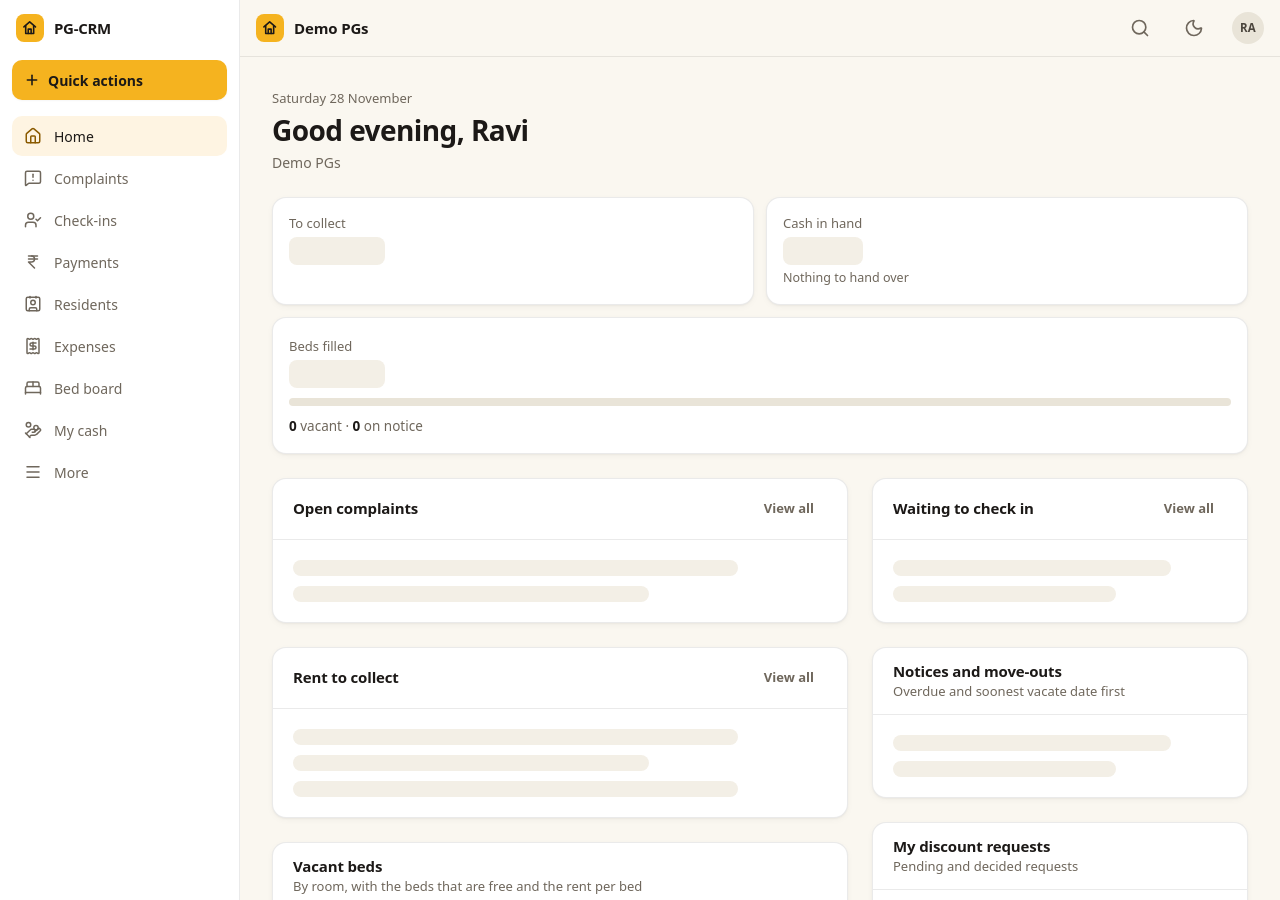
Test: Global search › finds residents by name or bed, rooms by number, and open complaints only
Click the button named "Search residents, rooms and complaints" at (1140, 28), box [1118,6,1162,50]
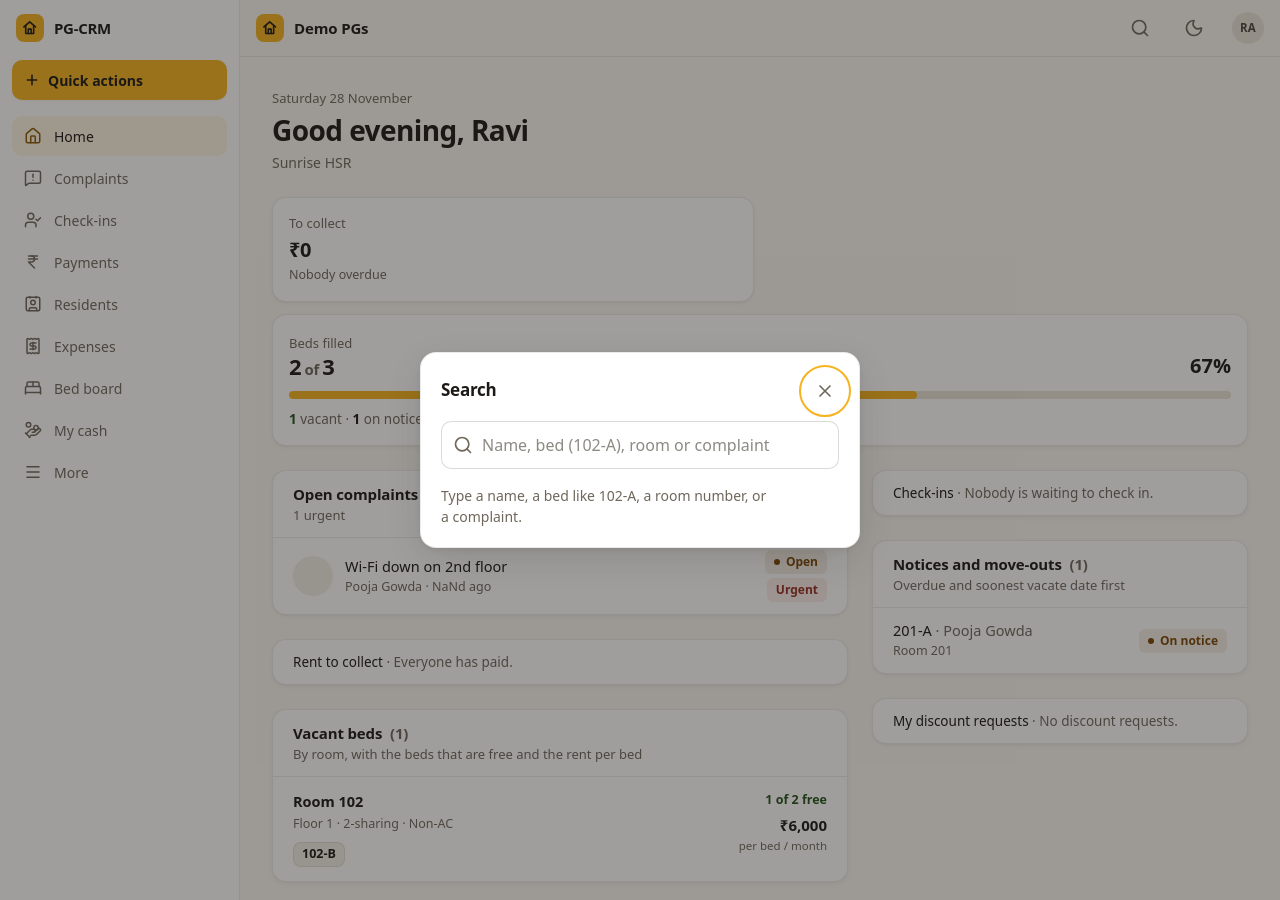
Type "102" into the search field named "Search residents, rooms and complaints" at (640, 445), box [441,421,839,469]
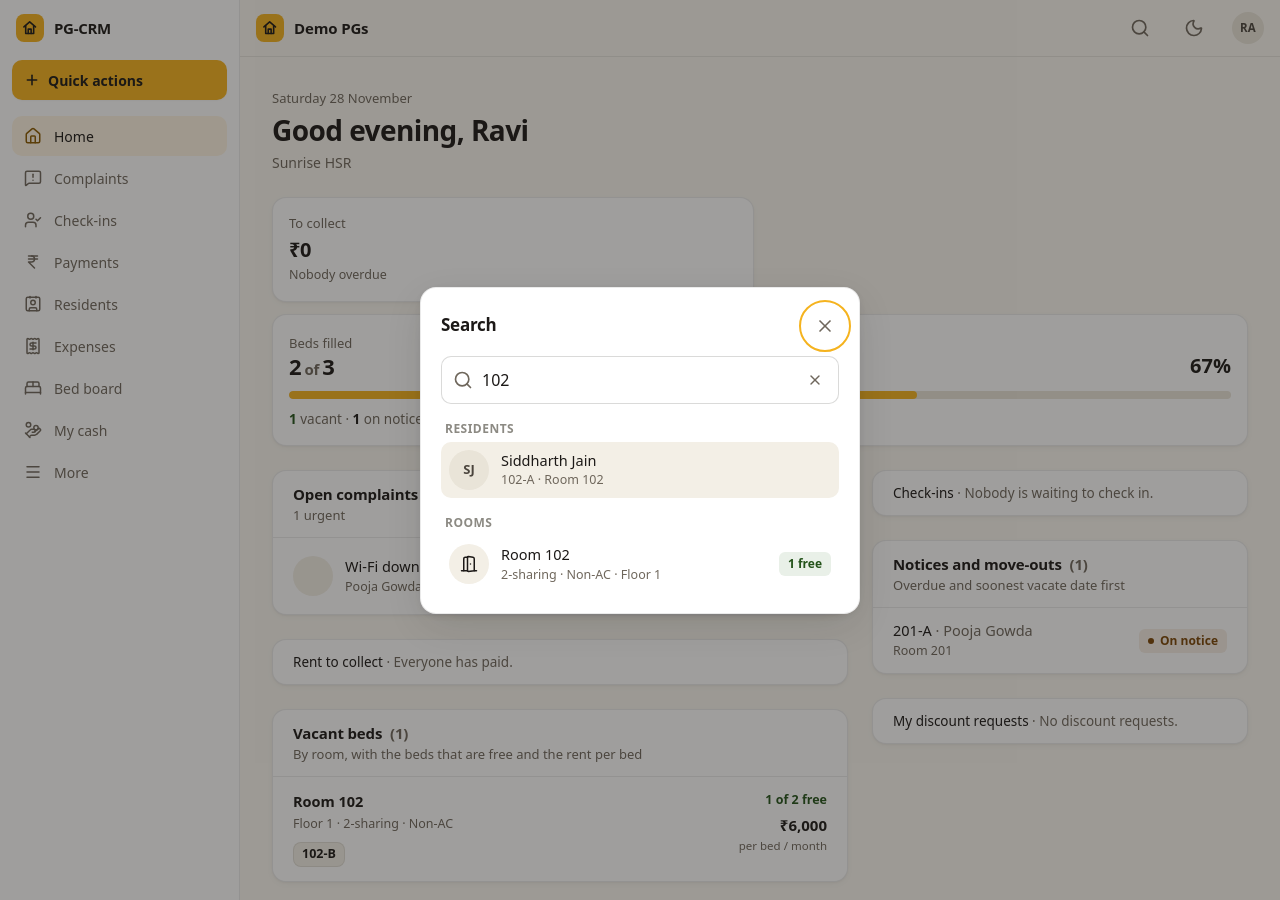
Result: the text "Siddharth Jain" is shown at [501,450,596,470]
Result: the text "Room 102" is shown at [501,544,570,564]
Result: the text "1 free" is shown at [779,552,831,576]
Replace the text in the search field named "Search residents, rooms and complaints" with "pooja" at (640, 380), box [441,356,839,404]
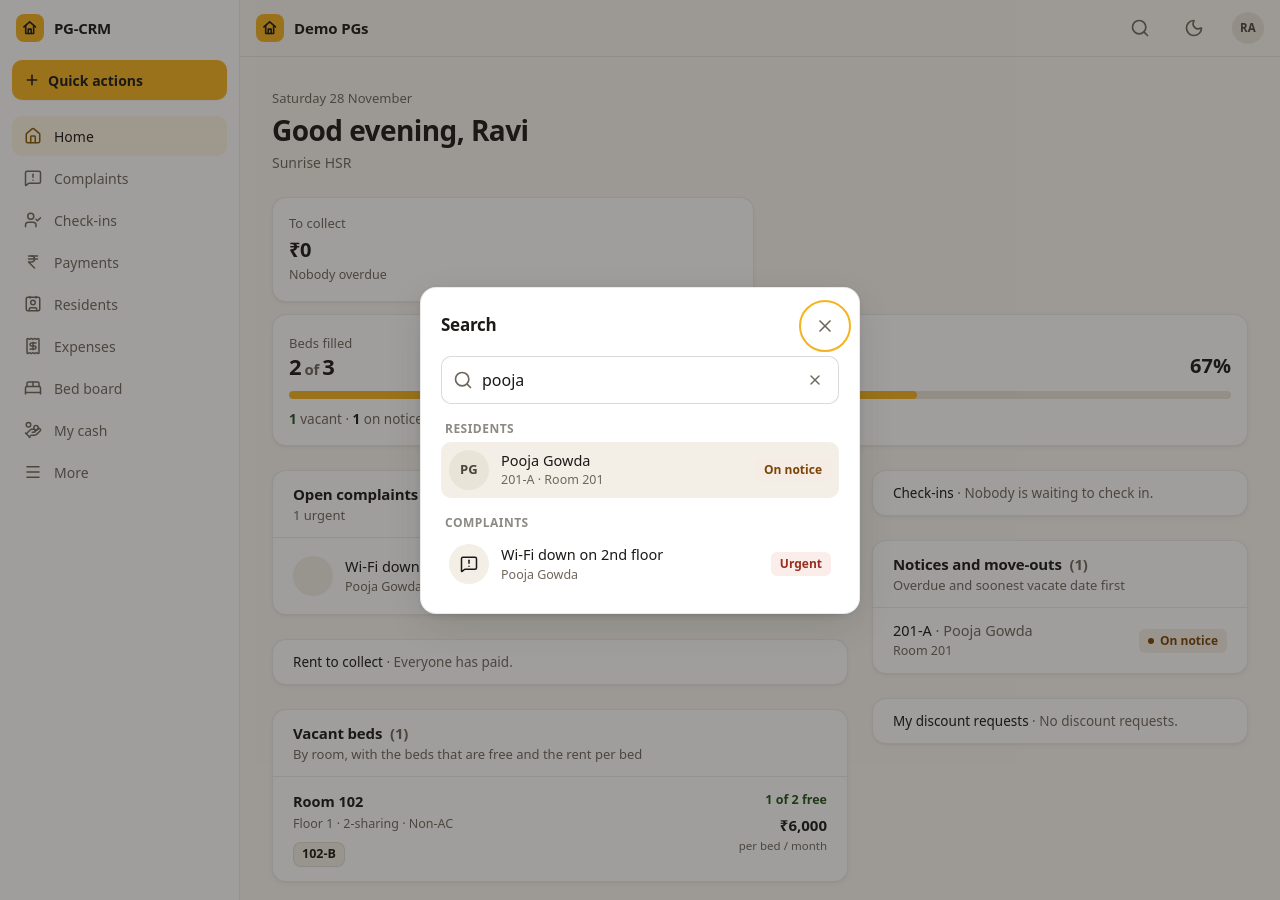
Result: the 1st text "Pooja Gowda" is shown at [501,450,590,470]
Result: the text "On notice" is shown at [755,458,831,482]
Result: the text "Wi-Fi down on 2nd floor" is shown at [501,544,663,564]
Replace the text in the search field named "Search residents, rooms and complaints" with "leak" at (640, 380), box [441,356,839,404]
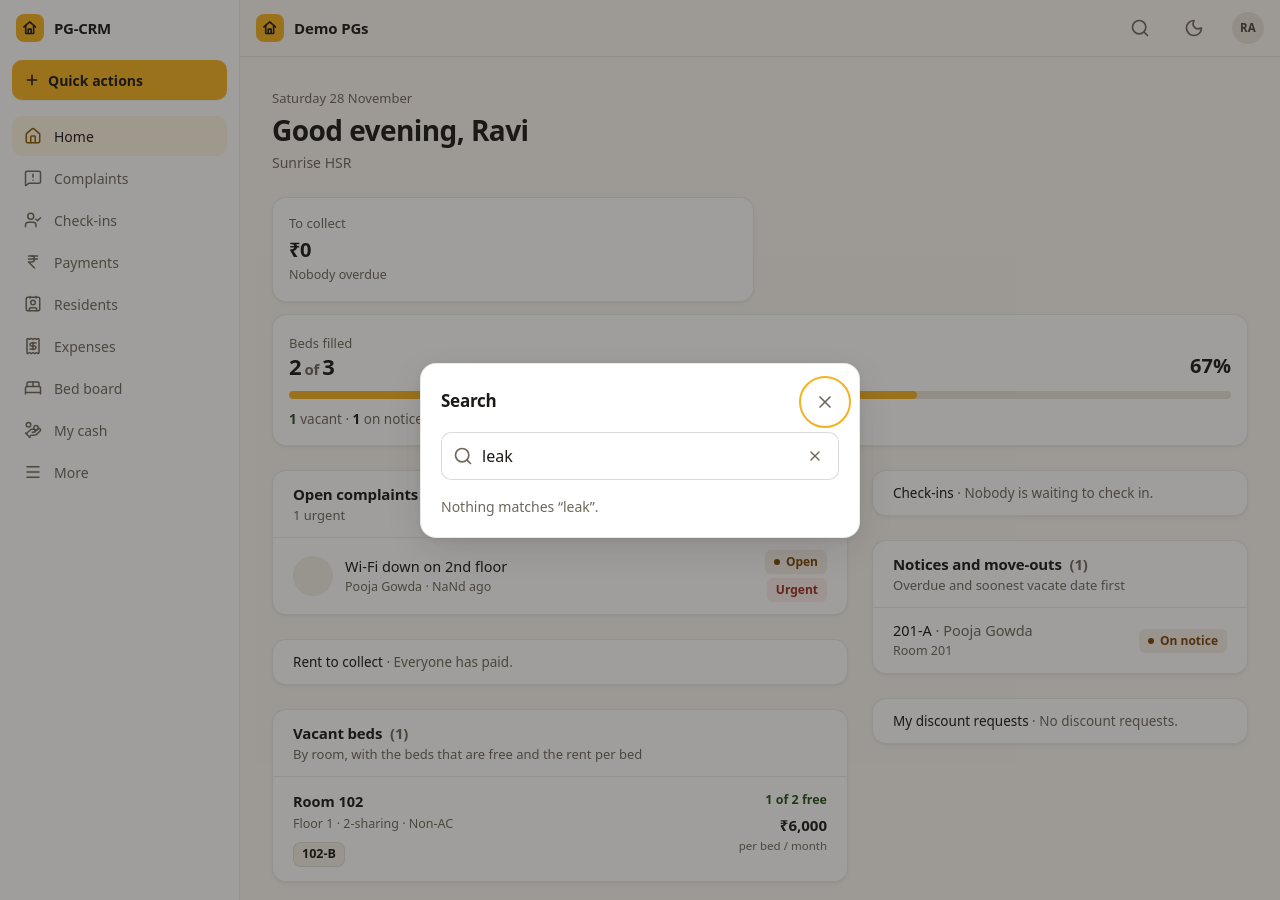
Result: the text "Nothing matches “leak”." is shown at [441,496,599,516]
